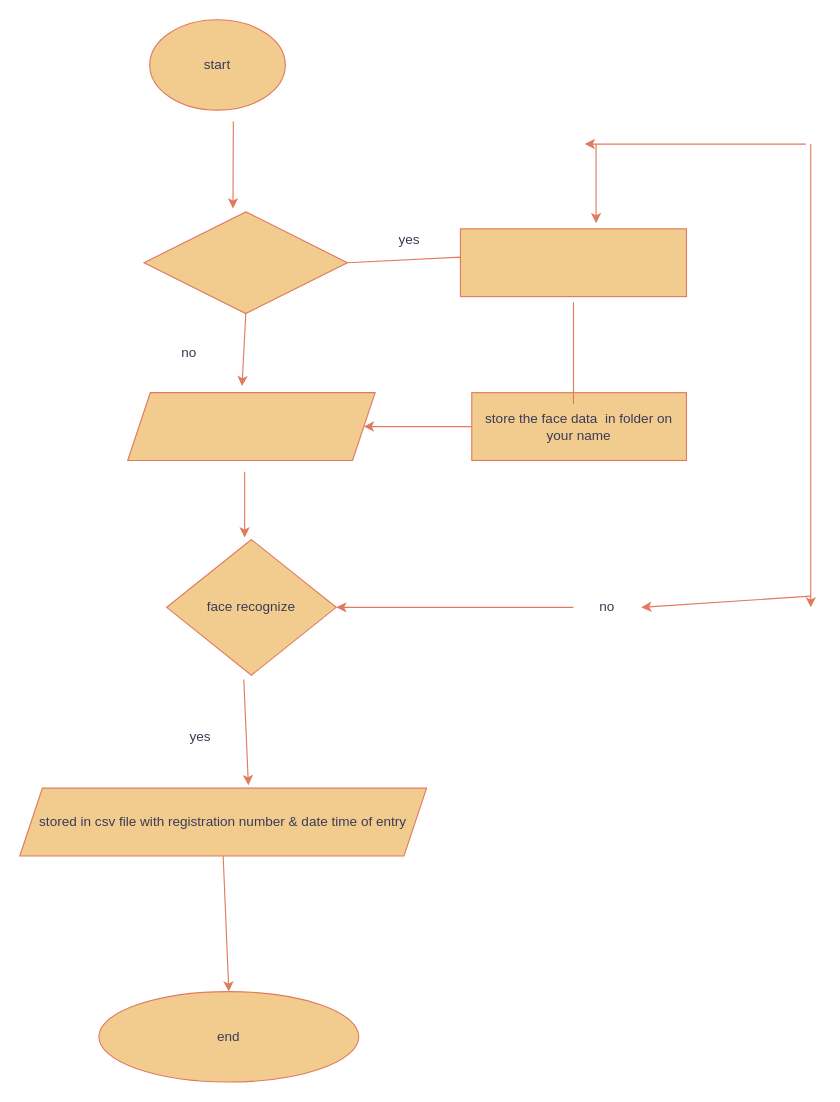
This 840x1102 diagram has some shape labels left out. The centre of each missing label's shape, as x and y in pixels:
give your photograph: point 572,262
new user: point 245,262
recognize the face: point 251,426
